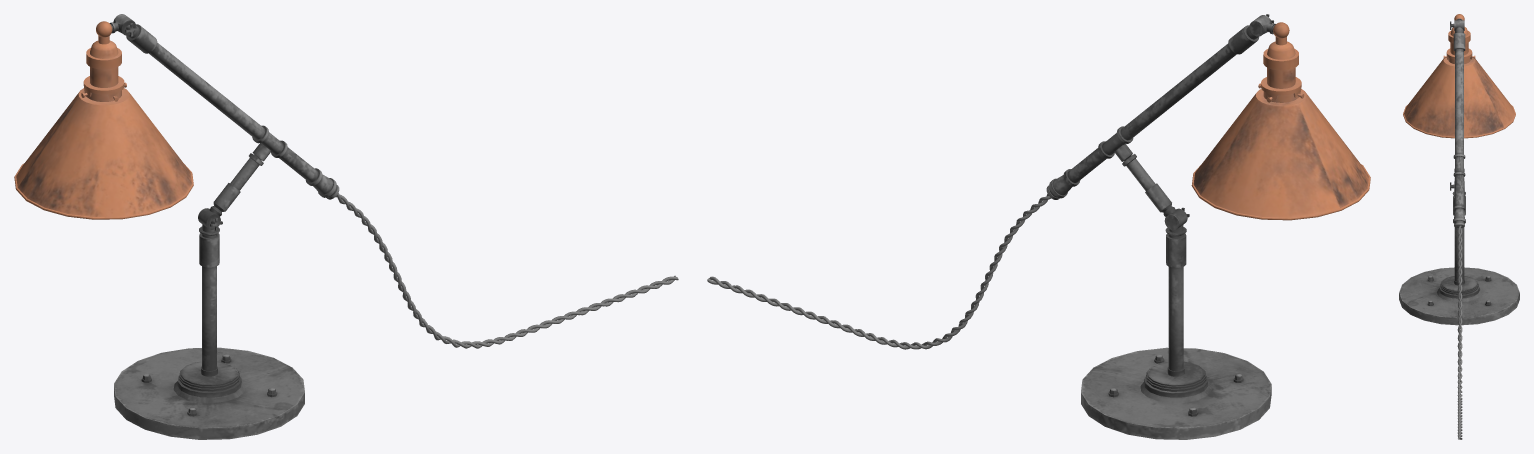
3 renders of one model, left to right at view 1: azimuth 30°, elevation 25°; view 2: azimuth 150°, elevation 25°; view 3: azimuth 270°, elevation 25°, orthographic. The views are drawn at different scales.
Parts seen in each view (by area): view 1: head, base, Cylinder.001, cable, Cylinder; view 2: head, base, Cylinder.001, cable, Cylinder; view 3: head, base, Cylinder.001, cable.
Boxes of the visible parts, <box> form: head: <box>14,36,193,219</box>; base: <box>114,224,304,439</box>; Cylinder.001: <box>126,24,339,199</box>; cable: <box>335,193,678,348</box>; Cylinder: <box>209,143,271,216</box>; head: <box>1191,37,1370,220</box>; base: <box>1081,225,1271,439</box>; Cylinder.001: <box>1046,25,1259,199</box>; cable: <box>707,194,1051,349</box>; Cylinder: <box>1114,144,1175,216</box>; head: <box>1403,27,1515,138</box>; base: <box>1399,191,1519,325</box>; Cylinder.001: <box>1453,27,1465,227</box>; cable: <box>1457,225,1462,439</box>.
Size of the model in its own units: 783 by 481 by 200.
1 material, 1 textured.
